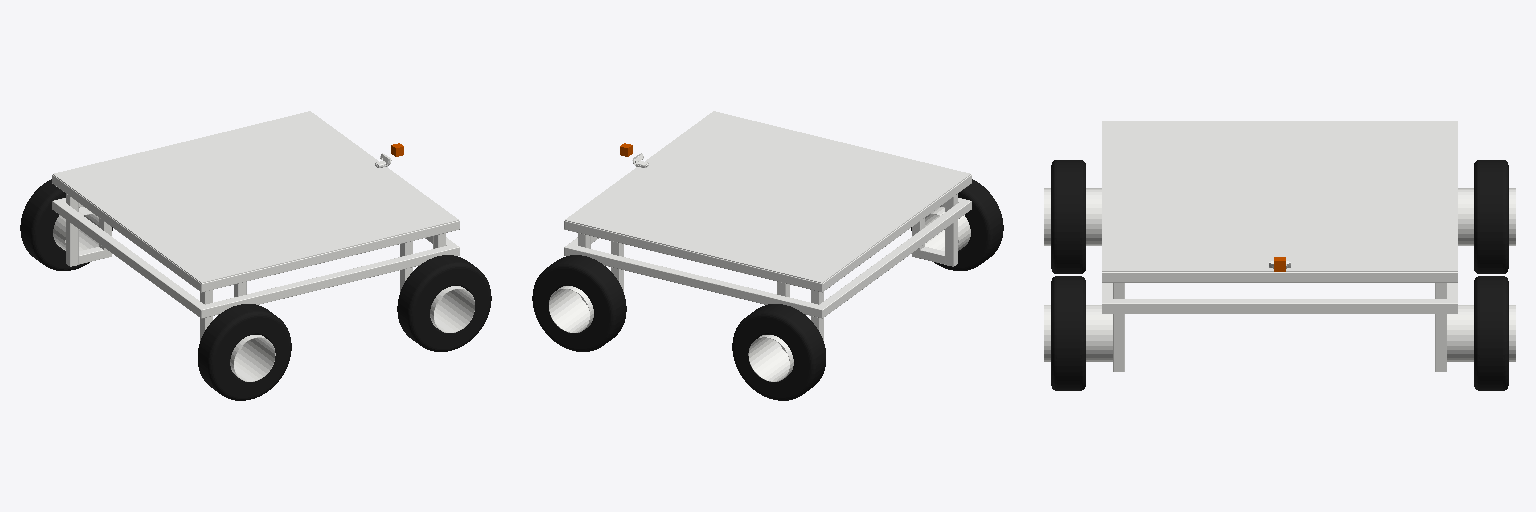
robot.urdf — bot_urdf1:
<?xml version="1.0" encoding="utf-8"?>
<robot
  name="bot_urdf1">
  <link
    name="base_link">
    <inertial>
      <origin
        xyz="0.00433150706637454 5.25676335550678E-10 -0.0550104892986802"
        rpy="0 0 0" />
      <mass
        value="20.4013433607069" />
      <inertia
        ixx="4.19722874986969"
        ixy="-4.8090685850497E-08"
        ixz="-4.28726068214046E-07"
        iyy="4.1979926323273"
        iyz="1.31162256266258E-10"
        izz="8.29717338418445" />
    </inertial>
    <visual>
      <origin
        xyz="0 0 0"
        rpy="0 0 0" />
      <geometry>
        <mesh
          filename="package://bot_urdf1/meshes/base_link.STL" />
      </geometry>
      <material
        name="">
        <color
          rgba="0.964705882352941 0.964705882352941 0.952941176470588 1" />
      </material>
    </visual>
    <collision>
      <origin
        xyz="0 0 0"
        rpy="0 0 0" />
      <geometry>
        <mesh
          filename="package://bot_urdf1/meshes/base_link.STL" />
      </geometry>
    </collision>
  </link>
  <link
    name="wheel_fr">
    <inertial>
      <origin
        xyz="0 0.105 0"
        rpy="0 0 0" />
      <mass
        value="21.5957465658845" />
      <inertia
        ixx="0.457618555212858"
        ixy="2.71050543121376E-18"
        ixz="-3.06421248350205E-33"
        iyy="0.836926309894771"
        iyz="1.29564750378012E-17"
        izz="0.457618555212858" />
    </inertial>
    <visual>
      <origin
        xyz="0 0 0"
        rpy="0 0 0" />
      <geometry>
        <mesh
          filename="package://bot_urdf1/meshes/wheel_fr.STL" />
      </geometry>
      <material
        name="">
        <color
          rgba="0.152941176470588 0.152941176470588 0.152941176470588 1" />
      </material>
    </visual>
    <collision>
      <origin
        xyz="0 0 0"
        rpy="0 0 0" />
      <geometry>
        <mesh
          filename="package://bot_urdf1/meshes/wheel_fr.STL" />
      </geometry>
    </collision>
  </link>
  <joint
    name="wheel_fr_rev"
    type="continuous">
    <origin
      xyz="0.5992 -1.0246 -0.3492"
      rpy="0 0 0" />
    <parent
      link="base_link" />
    <child
      link="wheel_fr" />
    <axis
      xyz="0 1 0" />
    <limit
      lower="0"
      upper="3.14"
      effort="100"
      velocity="100" />
  </joint>
  <link
    name="wheel_fl">
    <inertial>
      <origin
        xyz="0 -0.105 0"
        rpy="0 0 0" />
      <mass
        value="21.5957465658845" />
      <inertia
        ixx="0.457618555212858"
        ixy="4.13978999230504E-33"
        ixz="-4.59267919023056E-34"
        iyy="0.836926309894771"
        iyz="5.39510320249087E-20"
        izz="0.457618555212858" />
    </inertial>
    <visual>
      <origin
        xyz="0 0 0"
        rpy="0 0 0" />
      <geometry>
        <mesh
          filename="package://bot_urdf1/meshes/wheel_fl.STL" />
      </geometry>
      <material
        name="">
        <color
          rgba="0.152941176470588 0.152941176470588 0.152941176470588 1" />
      </material>
    </visual>
    <collision>
      <origin
        xyz="0 0 0"
        rpy="0 0 0" />
      <geometry>
        <mesh
          filename="package://bot_urdf1/meshes/wheel_fl.STL" />
      </geometry>
    </collision>
  </link>
  <joint
    name="wheel_fl_rev"
    type="continuous">
    <origin
      xyz="0.5992 1.0246 -0.3492"
      rpy="0 0 0" />
    <parent
      link="base_link" />
    <child
      link="wheel_fl" />
    <axis
      xyz="0 -1 0" />
    <limit
      lower="0"
      upper="3.14"
      effort="100"
      velocity="100" />
  </joint>
  <link
    name="wheel_rr">
    <inertial>
      <origin
        xyz="0 0.105 0"
        rpy="0 0 0" />
      <mass
        value="21.5957465658845" />
      <inertia
        ixx="0.457618555212858"
        ixy="4.18444103998784E-33"
        ixz="4.59267919023056E-34"
        iyy="0.836926309894771"
        iyz="-5.39510320249087E-20"
        izz="0.457618555212858" />
    </inertial>
    <visual>
      <origin
        xyz="0 0 0"
        rpy="0 0 0" />
      <geometry>
        <mesh
          filename="package://bot_urdf1/meshes/wheel_rr.STL" />
      </geometry>
      <material
        name="">
        <color
          rgba="0.152941176470588 0.152941176470588 0.152941176470588 1" />
      </material>
    </visual>
    <collision>
      <origin
        xyz="0 0 0"
        rpy="0 0 0" />
      <geometry>
        <mesh
          filename="package://bot_urdf1/meshes/wheel_rr.STL" />
      </geometry>
    </collision>
  </link>
  <joint
    name="wheel_rr_rev"
    type="continuous">
    <origin
      xyz="-0.5992 -1.0246 -0.3492"
      rpy="0 0 0" />
    <parent
      link="base_link" />
    <child
      link="wheel_rr" />
    <axis
      xyz="0 1 0" />
    <limit
      lower="0"
      upper="3.14"
      effort="100"
      velocity="100" />
  </joint>
  <link
    name="wheel_rl">
    <inertial>
      <origin
        xyz="0 -0.105 0"
        rpy="0 0 0" />
      <mass
        value="21.5957465658845" />
      <inertia
        ixx="0.457618555212858"
        ixy="2.71050543121376E-18"
        ixz="3.06421248350205E-33"
        iyy="0.836926309894771"
        iyz="-1.29564750378012E-17"
        izz="0.457618555212858" />
    </inertial>
    <visual>
      <origin
        xyz="0 0 0"
        rpy="0 0 0" />
      <geometry>
        <mesh
          filename="package://bot_urdf1/meshes/wheel_rl.STL" />
      </geometry>
      <material
        name="">
        <color
          rgba="0.152941176470588 0.152941176470588 0.152941176470588 1" />
      </material>
    </visual>
    <collision>
      <origin
        xyz="0 0 0"
        rpy="0 0 0" />
      <geometry>
        <mesh
          filename="package://bot_urdf1/meshes/wheel_rl.STL" />
      </geometry>
    </collision>
  </link>
  <joint
    name="wheel_rl_rev"
    type="continuous">
    <origin
      xyz="-0.5992 1.0246 -0.3492"
      rpy="0 0 0" />
    <parent
      link="base_link" />
    <child
      link="wheel_rl" />
    <axis
      xyz="0 -1 0" />
    <limit
      lower="0"
      upper="3.14"
      effort="100"
      velocity="100" />
  </joint>

<link name="camera">
    <inertial>
      <mass value="0.1"/>
      <origin rpy=" 0 0 0" xyz="0.0 0 0.6"/>
      <inertia ixx="1e-6" ixy="0" ixz="0" iyy="1e-6" iyz="0" izz="1e-6"/>
    </inertial>
    <collision name="camera_collision">
      <origin rpy=" 0 0 0" xyz="0 0 0.05"/>
      <geometry>
        <box size=".05 .05 .05"/>
      </geometry>
    </collision>
    <visual name="camera_visual">
      <origin rpy=" 0 0 0" xyz="0 0 0.05"/>
      <geometry>
        <box size=".05 .05 .05"/>
      </geometry>
    </visual>
  </link>
  <joint name="camera_joint" type="fixed">
    <origin rpy="0 0 0" xyz="0.85 0 0.05"/>
    <child link="camera"/>
    <parent link="base_link"/>
    <axis rpy="0 0 0" xyz="0 1 0"/>
    <limit effort="10000" velocity="1000"/>
    <joint_properties damping="1.0" friction="1.0"/>
  </joint>


  <gazebo>
    <plugin name="diffdrive_plugin_multiwheel" filename="libdiffdrive_plugin_multi_wheel.so">
      <alwaysOn>true</alwaysOn>
      <robotNamespace>/</robotNamespace>
      <leftJoints>wheel_fl_rev wheel_rl_rev</leftJoints>
      <rightJoints>wheel_fr_rev wheel_rr_rev</rightJoints>
      <wheelSeparation>1.6</wheelSeparation>
      <wheelDiameter>0.5</wheelDiameter>
      <torque>60</torque>
      <commandTopic>/cmd_vel</commandTopic>
      <odometryTopic>odom</odometryTopic>
      <odometryFrame>odom</odometryFrame>
      <robotBaseFrame>base_link</robotBaseFrame>
      <updateRate>20.0</updateRate>
      <publishOdometryTf>true</publishOdometryTf>
      <publishOdometryMsg>true</publishOdometryMsg>
    </plugin>
    </gazebo>
    
    
    
    
    
    <gazebo reference="camera">
    <material>Gazebo/Green</material>
    <sensor name="camera1" type="camera">
      <update_rate>30.0</update_rate>
      <camera name="head">
        <horizontal_fov>1.3962634</horizontal_fov>
        <image>
          <width>800</width>
          <height>800</height>
          <format>R8G8B8</format>
        </image>
        <clip>
          <near>0.02</near>
          <far>300</far>
        </clip>
      </camera>
      <plugin filename="libgazebo_ros_camera.so" name="camera_controller">
        <alwaysOn>true</alwaysOn>
        <updateRate>0.0</updateRate>
        <cameraName>bot_urdf1/camera1</cameraName>
        <imageTopicName>image_raw</imageTopicName>
        <cameraInfoTopicName>camera_info</cameraInfoTopicName>
        <frameName>camera</frameName>
        <hackBaseline>0.07</hackBaseline>
        <distortionK1>0.0</distortionK1>
        <distortionK2>0.0</distortionK2>
        <distortionK3>0.0</distortionK3>
        <distortionT1>0.0</distortionT1>
        <distortionT2>0.0</distortionT2>
      </plugin>
    </sensor>
  </gazebo>
  
</robot>

--- What the picture shows (computed from the rendered views, not written in the file) ---
The picture shows the robot from 3 angles, left to right: view 1: azimuth 30°, elevation 25°; view 2: azimuth 150°, elevation 25°; view 3: azimuth 270°, elevation 25°; orthographic projection.
Robot: bot_urdf1 — 6 links, 5 joints (4 continuous, 1 fixed); root link base_link; default pose: all joints at 0.
Links seen in each view (by area): view 1: base_link, wheel_fr, wheel_rr, wheel_rl; view 2: base_link, wheel_fl, wheel_rl, wheel_rr; view 3: base_link, wheel_fr, wheel_fl, wheel_rr, wheel_rl.
Link boxes in pixels (x1,y1,x2,y2): base_link: (52, 111, 474, 381); wheel_fr: (397, 255, 491, 351); wheel_rr: (198, 304, 291, 400); wheel_rl: (20, 179, 112, 270); base_link: (549, 111, 971, 381); wheel_fl: (532, 255, 626, 351); wheel_rl: (732, 304, 825, 400); wheel_rr: (911, 179, 1003, 270); base_link: (1044, 121, 1515, 371); wheel_fr: (1051, 276, 1085, 390); wheel_fl: (1474, 276, 1508, 390); wheel_rr: (1051, 160, 1085, 273); wheel_rl: (1474, 160, 1508, 273).
Bounding box of the posed robot: 1.72 × 2.05 × 0.7242 m (x, y, z).
5 mesh visuals loaded from 5 distinct referenced files (5 binary STL).